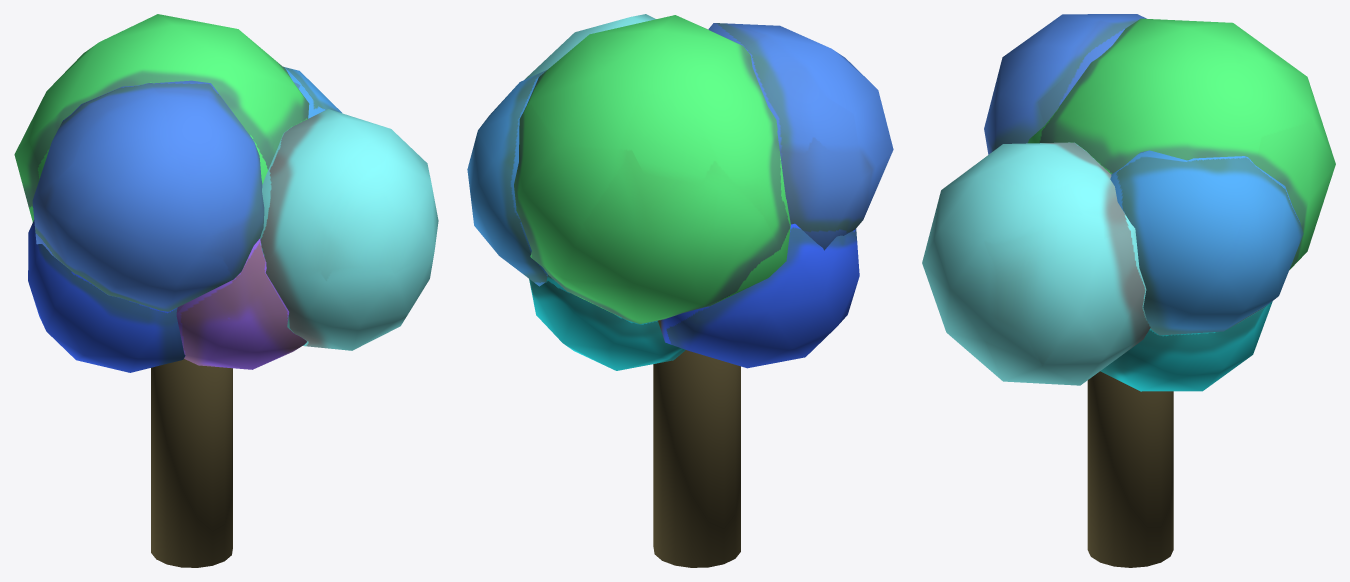
File: tree.fbx
3 renders of one model, left to right at view 1: azimuth 30°, elevation 25°; view 2: azimuth 150°, elevation 25°; view 3: azimuth 270°, elevation 25°, orthographic. The views are drawn at different scales.
Visible parts, largest first — view 1: Cylinder.006; view 2: Cylinder.006; view 3: Cylinder.006.
Part boxes in pixels (left/top/right/bottom): Cylinder.006: left=14, top=14, right=438, bottom=567; Cylinder.006: left=467, top=14, right=893, bottom=567; Cylinder.006: left=922, top=14, right=1335, bottom=567.
Size of the model in its own units: 1310 by 1751 by 1250.
Materials: 1 (1 with a texture image).
